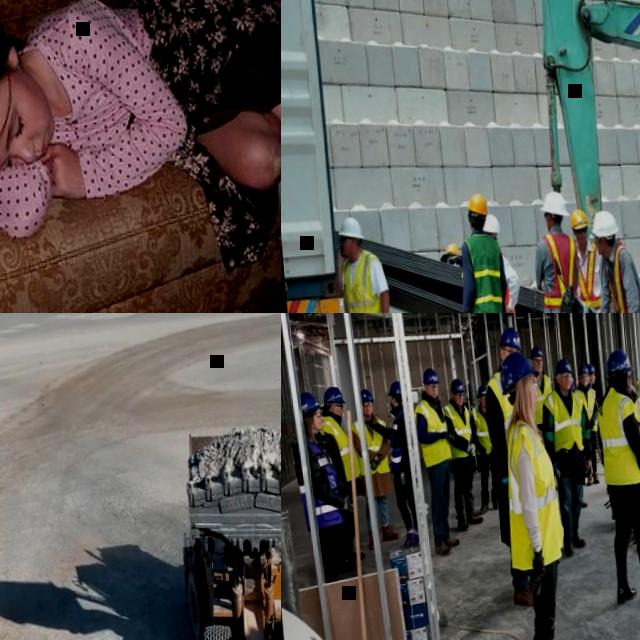Hardhat: (497, 350, 539, 396), (603, 348, 633, 375), (539, 189, 567, 217), (589, 210, 617, 237), (334, 215, 363, 239), (497, 326, 522, 353), (298, 390, 324, 415), (320, 385, 345, 404), (568, 209, 587, 231), (465, 193, 484, 215), (553, 358, 573, 377), (420, 367, 439, 386), (480, 215, 497, 236), (439, 243, 460, 259), (448, 378, 465, 394), (527, 346, 543, 361), (386, 381, 400, 396), (359, 388, 373, 403), (474, 384, 487, 400), (577, 364, 588, 376), (585, 363, 595, 375), (569, 375, 573, 386), (463, 383, 470, 389)
Mask: (390, 397, 395, 410)
NO-Mask: (25, 93, 56, 160), (338, 245, 350, 258), (594, 243, 606, 256), (576, 233, 587, 245), (312, 418, 322, 431), (425, 390, 438, 399), (559, 381, 570, 391), (334, 409, 343, 420), (362, 406, 372, 415), (533, 395, 538, 412), (543, 222, 551, 231), (533, 364, 542, 372), (453, 399, 462, 407), (625, 382, 630, 394), (580, 380, 586, 386), (480, 401, 485, 408), (589, 379, 593, 385)
NO-Safety Vest: (38, 0, 154, 155)
Person: (0, 0, 281, 248), (491, 345, 579, 640), (478, 325, 541, 608), (287, 387, 359, 585), (588, 345, 640, 612), (535, 356, 598, 559), (410, 365, 463, 556), (363, 379, 419, 555), (315, 384, 365, 573), (445, 190, 517, 313), (525, 187, 591, 313), (348, 386, 398, 551), (333, 211, 401, 313), (439, 377, 483, 532), (587, 207, 640, 313), (476, 213, 530, 313), (567, 206, 614, 313), (466, 382, 498, 516), (570, 363, 603, 488), (432, 240, 475, 313), (527, 344, 557, 440), (580, 363, 604, 476), (461, 383, 473, 409)
Safety Vest: (499, 415, 566, 570), (292, 437, 345, 532), (593, 384, 640, 487), (534, 230, 579, 310), (461, 230, 503, 313), (540, 386, 586, 453), (600, 238, 640, 313), (318, 412, 360, 483), (484, 368, 519, 451), (412, 398, 452, 470), (337, 249, 381, 313), (570, 238, 603, 311), (349, 416, 389, 475), (441, 400, 474, 461), (384, 408, 408, 475), (436, 262, 466, 313), (530, 374, 555, 425), (468, 404, 492, 457), (572, 387, 598, 433), (495, 282, 517, 313), (590, 388, 597, 422), (464, 391, 474, 409), (632, 396, 640, 411)
vehicle: (526, 0, 640, 313), (169, 417, 281, 640), (281, 0, 352, 313)
